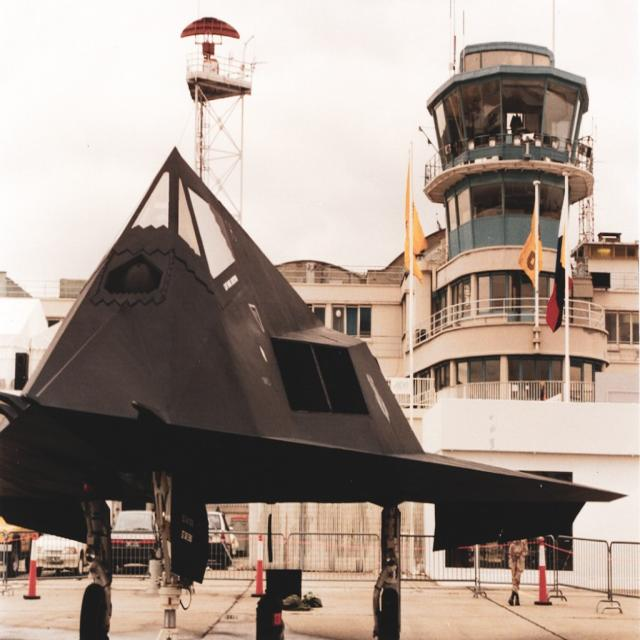F117: (0, 133, 624, 640)
